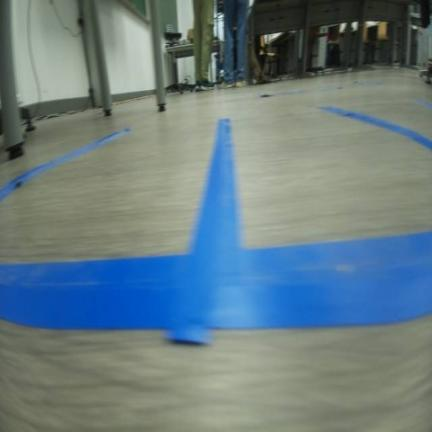place: (173, 103, 431, 326), (0, 114, 247, 333)
